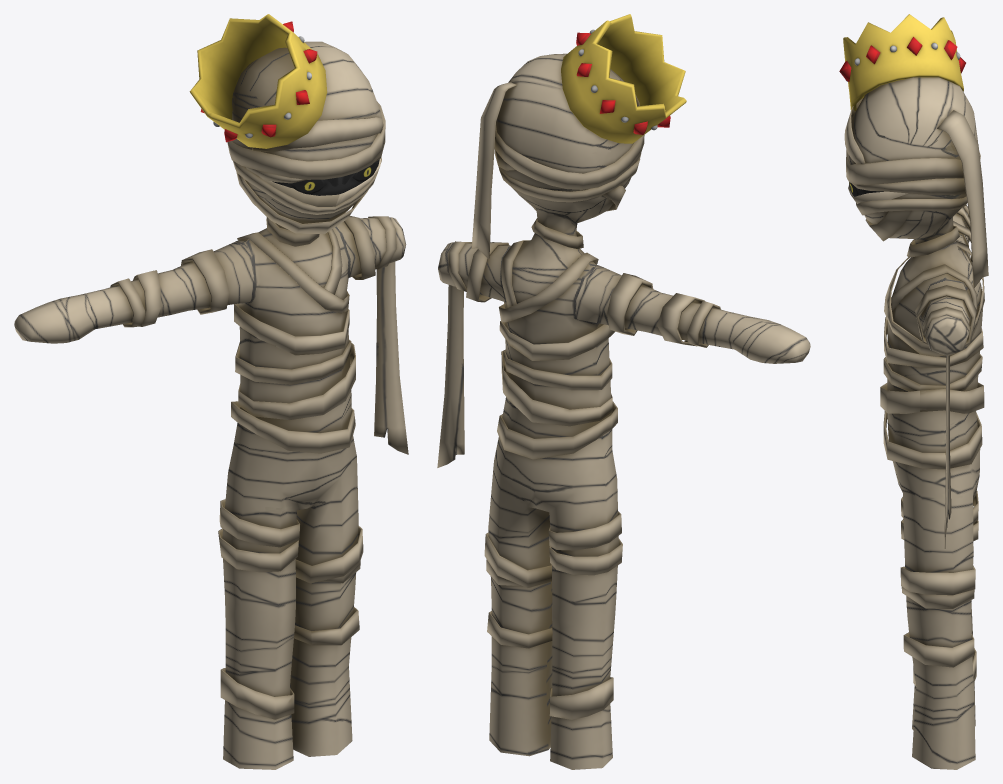
The model's file is Mummy_Crown_Revised.fbx.
The picture shows the model from 3 angles, left to right: view 1: azimuth 30°, elevation 25°; view 2: azimuth 150°, elevation 25°; view 3: azimuth 270°, elevation 25°; orthographic projection. The views are drawn at different scales.
Visible parts, largest first — view 1: Mummy_Crown; view 2: Mummy_Crown; view 3: Mummy_Crown.
Part boxes in pixels (x1=…): Mummy_Crown: x1=14, y1=14, x2=408, y2=769; Mummy_Crown: x1=437, y1=14, x2=810, y2=769; Mummy_Crown: x1=839, y1=14, x2=988, y2=769.
Bounding box in the file's own units: 122 × 229 × 43.64.
1 material, 1 textured.
